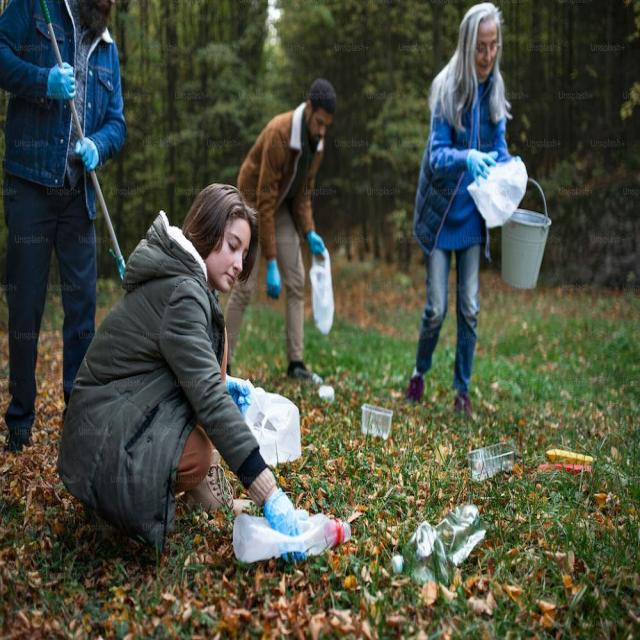plastic: (230, 492, 350, 566), (388, 516, 495, 587), (461, 160, 529, 228), (302, 243, 342, 345), (463, 436, 520, 488), (355, 387, 393, 442)
